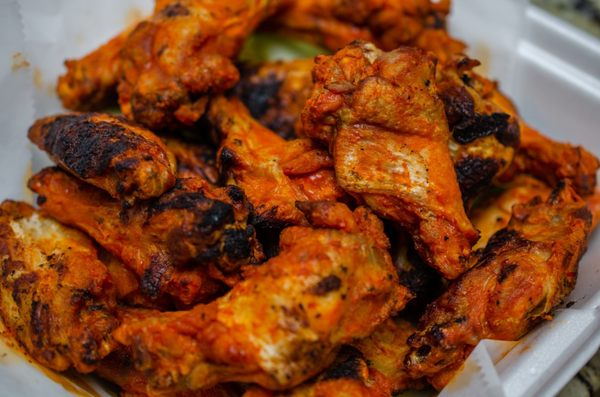sandwich: (6, 0, 597, 392)
